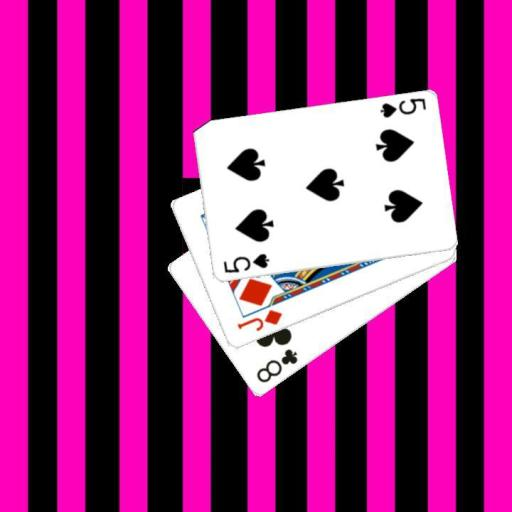5S: (377, 96, 428, 120), (220, 251, 270, 275)
8C: (253, 346, 300, 385)
JD: (234, 307, 284, 334)
